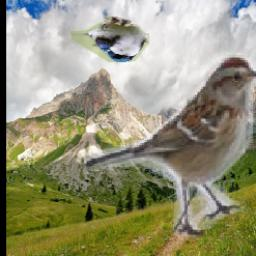Sparrow: (83, 49, 256, 243)
Swallow: (70, 17, 149, 62)
